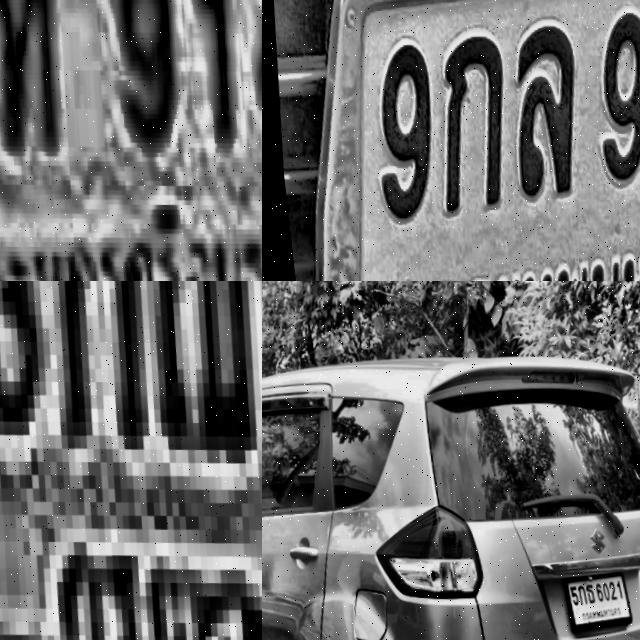license-plate: (262, 0, 640, 281), (0, 281, 262, 640), (0, 0, 262, 281), (541, 560, 636, 640)
